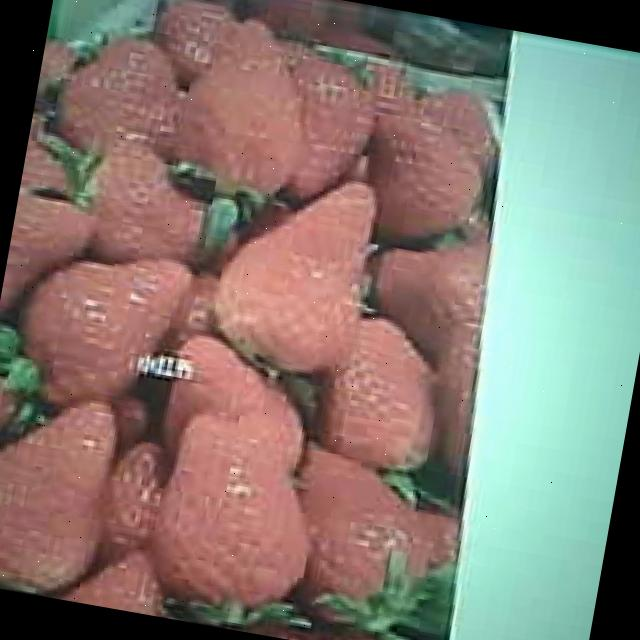strawberry: (208, 163, 382, 370), (146, 410, 324, 612), (13, 237, 190, 416), (166, 10, 312, 200), (0, 384, 123, 598)
